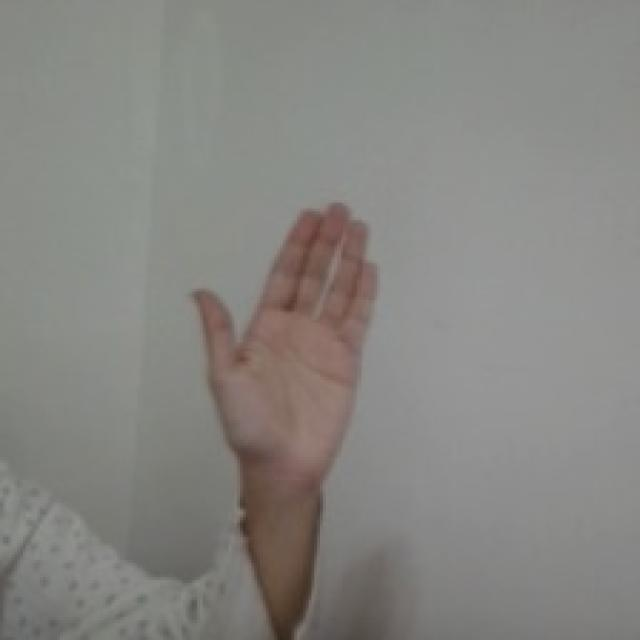Hello: (184, 197, 386, 488)
